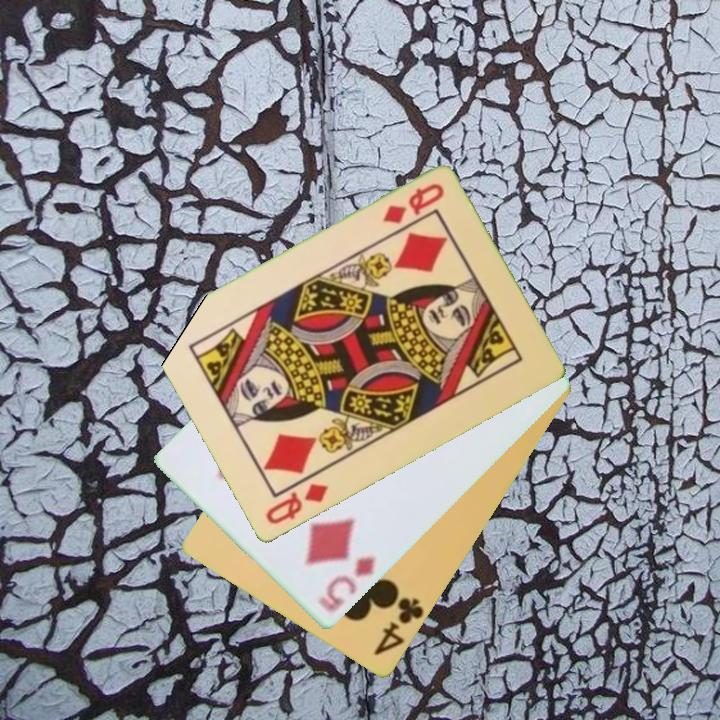4c: (370, 594, 427, 659)
5d: (314, 554, 379, 616)
Qd: (261, 480, 331, 529), (378, 180, 447, 228)
